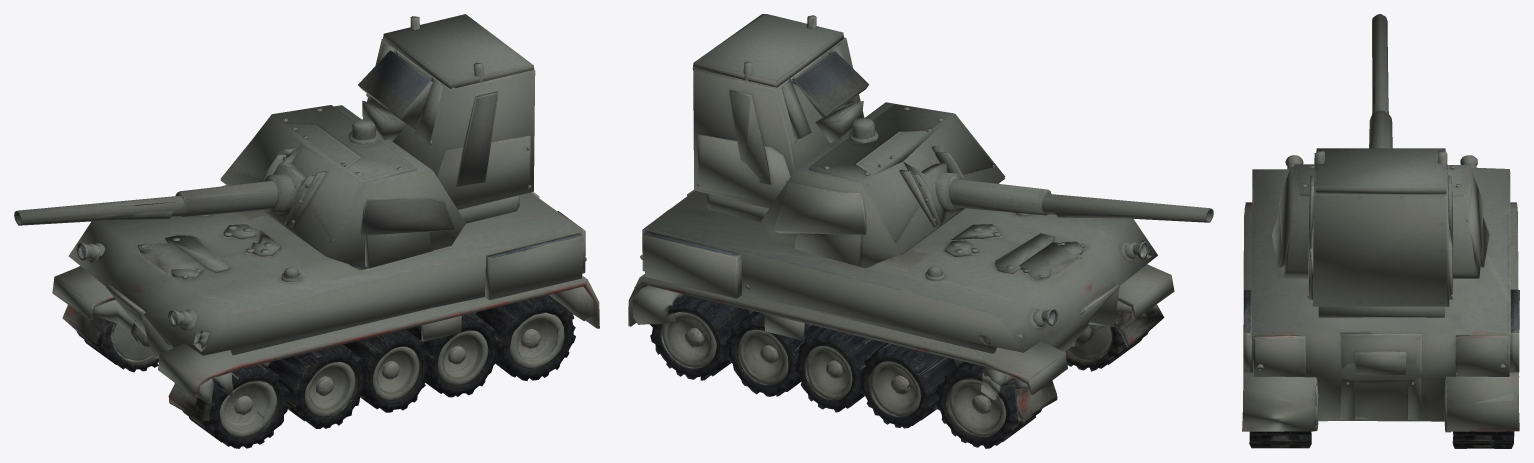
The model's file is spg.glb.
3 renders of one model, left to right at view 1: azimuth 30°, elevation 25°; view 2: azimuth 150°, elevation 25°; view 3: azimuth 270°, elevation 25°, orthographic. The views are drawn at different scales.
Size of the model in its own units: 1 by 0.5542 by 0.495.
Materials: 1 (1 with a texture image).
